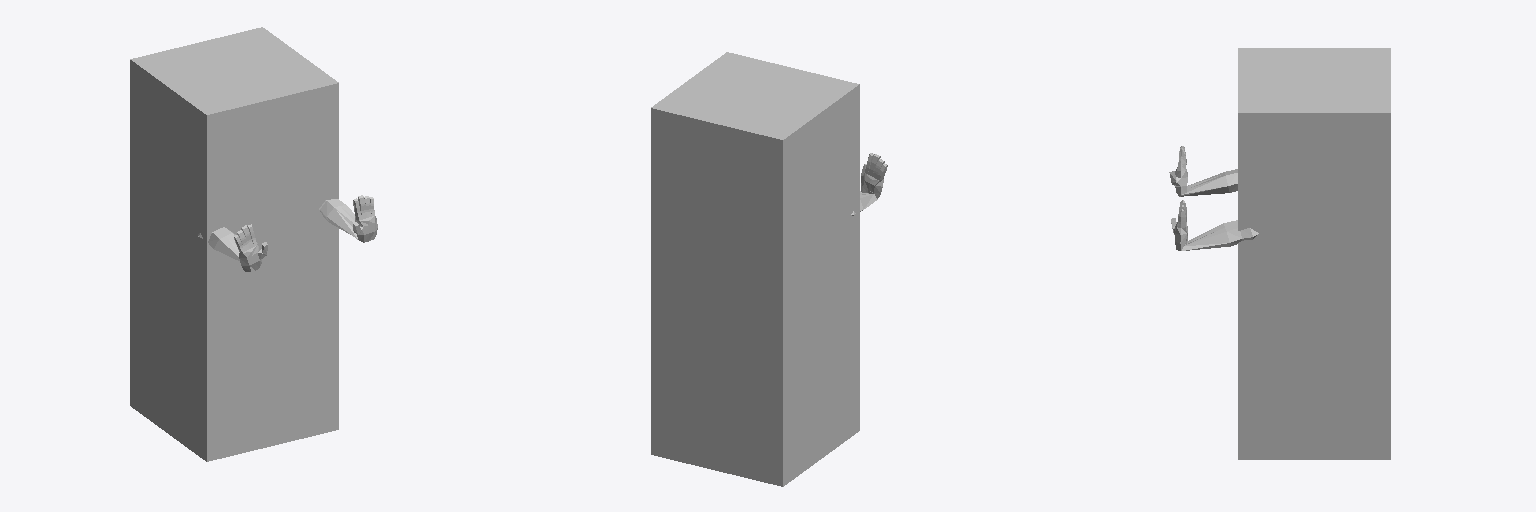
File: player.obj
3 renders of one model, left to right at view 1: azimuth 30°, elevation 25°; view 2: azimuth 150°, elevation 25°; view 3: azimuth 270°, elevation 25°, orthographic.
Parts seen in each view (by area): view 1: Size_Reference_Cube, Arms_Model_Cube.002; view 2: Size_Reference_Cube, Arms_Model_Cube.002; view 3: Size_Reference_Cube, Arms_Model_Cube.002.
Part boxes in pixels (x1,y1,x2,y2): Size_Reference_Cube: (130,27,338,461); Arms_Model_Cube.002: (198,195,377,271); Size_Reference_Cube: (651,52,859,486); Arms_Model_Cube.002: (851,153,887,215); Size_Reference_Cube: (1238,48,1390,459); Arms_Model_Cube.002: (1169,146,1258,250).
Size of the model in its own units: 0.871 by 2 by 1.16.